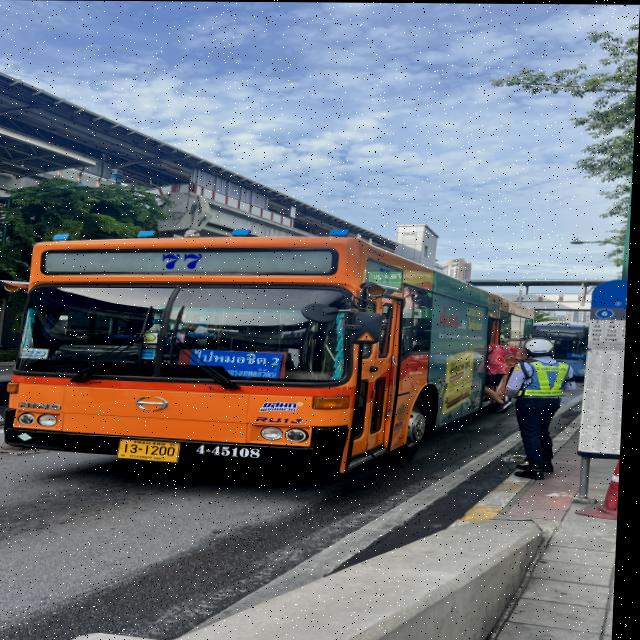BMTA-bus: (8, 235, 536, 475)
Bus Line Number: (153, 247, 211, 275)
Bus Side Number: (195, 441, 268, 462)
Destination Sign: (196, 350, 286, 380)
